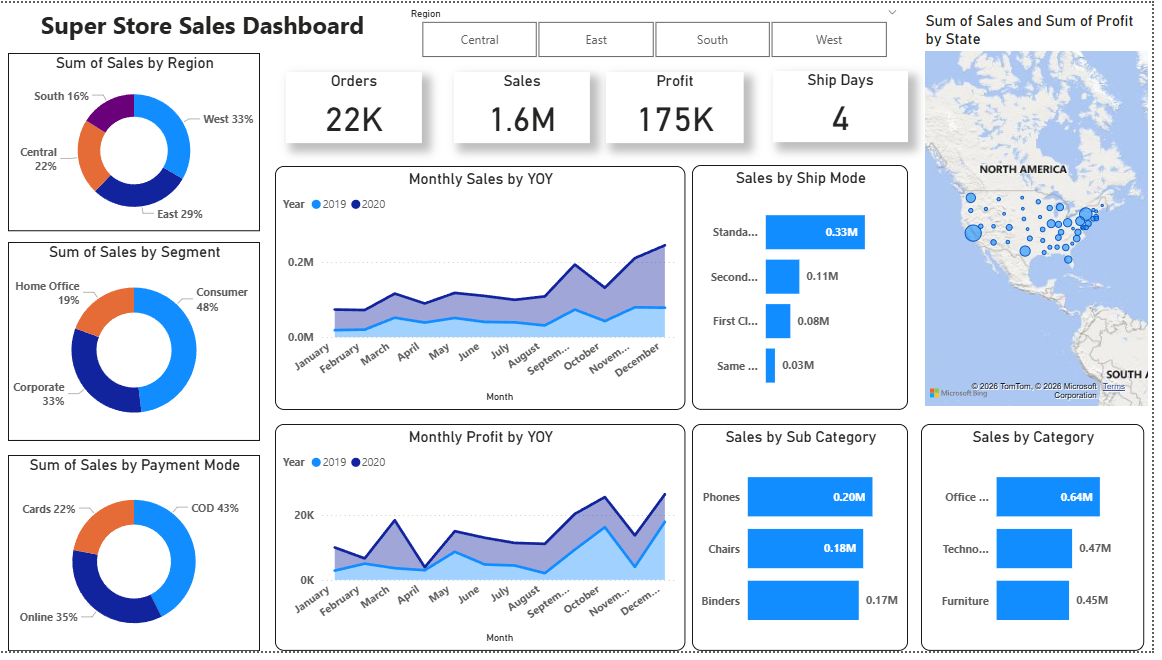

The page's visual inventory and layout, read from the dashboard file:
{"tool":"powerbi","page":{"name":"Page 1","canvas":[1280,720],"ordinal":0},"visuals":[{"type":"clusteredBarChart","title":" Sales by Category","fields":{"Y":["Sum(SuperStore_Sales_Dataset.Sales)"],"Category":["SuperStore_Sales_Dataset.Category"]},"box":[1023.3,467.8,247.8,252.2],"z":0},{"type":"clusteredBarChart","title":" Sales by Sub Category","fields":{"Y":["Sum(SuperStore_Sales_Dataset.Sales)"],"Category":["SuperStore_Sales_Dataset.Sub-Category"]},"box":[768.9,467.8,240,252.2],"z":1000},{"type":"clusteredBarChart","title":" Sales by Ship Mode","fields":{"Y":["Sum(SuperStore_Sales_Dataset.Sales)"],"Category":["SuperStore_Sales_Dataset.Ship Mode"]},"box":[768.9,180,240,272.2],"z":2000},{"type":"stackedAreaChart","title":"Monthly Sales by YOY","fields":{"Y":["Sum(SuperStore_Sales_Dataset.Sales)"],"Category":["SuperStore_Sales_Dataset.Order Date.Variation.Date Hierarchy.Month","SuperStore_Sales_Dataset.Order Date.Variation.Date Hierarchy.Day"],"Series":["SuperStore_Sales_Dataset.Order Date.Variation.Date Hierarchy.Year"]},"box":[305.6,181.1,455.6,271.1],"z":3000},{"type":"stackedAreaChart","title":"Monthly Profit  by YOY","fields":{"Category":["SuperStore_Sales_Dataset.Order Date.Variation.Date Hierarchy.Month","SuperStore_Sales_Dataset.Order Date.Variation.Date Hierarchy.Day"],"Series":["SuperStore_Sales_Dataset.Order Date.Variation.Date Hierarchy.Year"],"Y":["Sum(SuperStore_Sales_Dataset.Profit)"]},"box":[305.6,467.8,455.6,252.2],"z":4000},{"type":"map","fields":{"Category":["SuperStore_Sales_Dataset.State"],"Size":["Sum(SuperStore_Sales_Dataset.Sales)"]},"box":[1023.3,10,256.7,443.3],"z":5000},{"type":"donutChart","fields":{"Category":["SuperStore_Sales_Dataset.Segment"],"Y":["Sum(SuperStore_Sales_Dataset.Sales)"]},"box":[8.9,265.6,280,221.1],"z":6000},{"type":"donutChart","fields":{"Category":["SuperStore_Sales_Dataset.Payment Mode"],"Y":["Sum(SuperStore_Sales_Dataset.Sales)"]},"box":[8.9,502.2,280,217.8],"z":7000},{"type":"slicer","fields":{"Values":["SuperStore_Sales_Dataset.Region"]},"box":[443.3,0,565.6,66.7],"z":8000},{"type":"textbox","box":[0,0,450,55.6],"z":9000},{"type":"card","title":"Sales","fields":{"Values":["Sum(SuperStore_Sales_Dataset.Sales)"]},"box":[504.4,76.7,151.1,78.9],"z":10000},{"type":"card","title":"Orders","fields":{"Values":["Sum(SuperStore_Sales_Dataset.Quantity)"]},"box":[317.8,76.7,151.1,78.9],"z":11000},{"type":"card","title":"Profit","fields":{"Values":["Sum(SuperStore_Sales_Dataset.Profit)"]},"box":[673.3,76.7,153.3,78.9],"z":12000},{"type":"card","title":"Ship Days","fields":{"Values":["Avg(SuperStore_Sales_Dataset.Avg Delivery)"]},"box":[858.9,75.6,150,78.9],"z":13000},{"type":"donutChart","fields":{"Category":["SuperStore_Sales_Dataset.Region"],"Y":["Sum(SuperStore_Sales_Dataset.Sales)"]},"box":[8.9,55.6,280,197.8],"z":14000}]}

Visuals, with their boxes in screenshot pixels (x1, y1, x2, y2), scaled from the page's 1280x720 canvas onto the 1162x660 screenshot:
" Sales by Category" clusteredBarChart: (929,429,1154,659)
" Sales by Sub Category" clusteredBarChart: (698,429,916,659)
" Sales by Ship Mode" clusteredBarChart: (698,165,916,415)
"Monthly Sales by YOY" stackedAreaChart: (277,166,691,415)
"Monthly Profit  by YOY" stackedAreaChart: (277,429,691,659)
map - SuperStore_Sales_Dataset.State x Sum(SuperStore_Sales_Dataset.Sales): (929,9,1161,416)
donutChart - SuperStore_Sales_Dataset.Segment x Sum(SuperStore_Sales_Dataset.Sales): (8,243,262,446)
donutChart - SuperStore_Sales_Dataset.Payment Mode x Sum(SuperStore_Sales_Dataset.Sales): (8,460,262,659)
slicer - SuperStore_Sales_Dataset.Region: (402,0,916,61)
textbox: (0,0,409,51)
"Sales" card: (458,70,595,143)
"Orders" card: (289,70,426,143)
"Profit" card: (611,70,750,143)
"Ship Days" card: (780,69,916,142)
donutChart - SuperStore_Sales_Dataset.Region x Sum(SuperStore_Sales_Dataset.Sales): (8,51,262,232)
